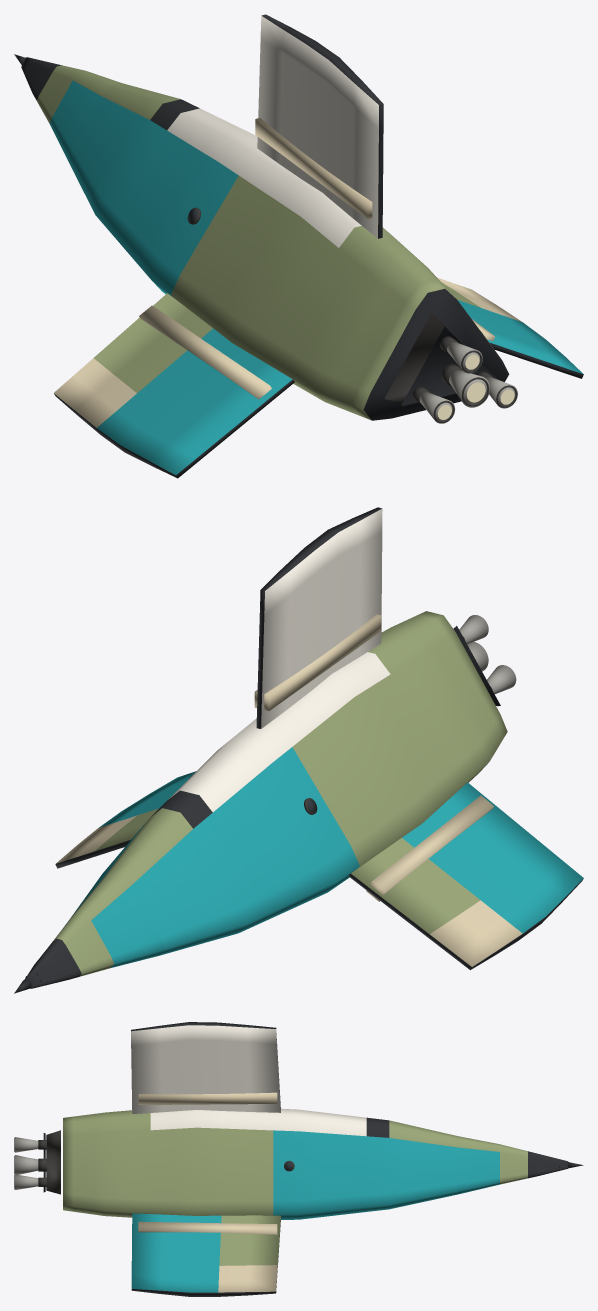
Rendered from Ship_Standard_8.glb.
3 renders of one model, top to bottom at view 1: azimuth 30°, elevation 25°; view 2: azimuth 150°, elevation 25°; view 3: azimuth 270°, elevation 25°, orthographic. The views are drawn at different scales.
Parts seen in each view (by area): view 1: Fuselage_RoundedTriangleTriFoldBody, Wing_LowerLeft_TriFoldCornerBladePaintedMesh, Wing_Dorsal_TriFoldCornerBladePaintedMesh, Nose_RoundedTriangleTaperedForwardSection, Wing_LowerRight_TriFoldCornerBladePaintedMesh, WingRootSocket_LowerLeft_IntegratedEmbeddedShoulder, WingRootSocket_Dorsal_IntegratedEmbeddedShoulder, EngineBlock_AftTriFoldTrimFrame, EngineBlock_AftTriangularIntegratedMountPlate, EngineEmitter, EngineBell_Center_BurnishedNozzle; view 2: Fuselage_RoundedTriangleTriFoldBody, Wing_LowerLeft_TriFoldCornerBladePaintedMesh, Wing_Dorsal_TriFoldCornerBladePaintedMesh, Nose_RoundedTriangleTaperedForwardSection, Wing_LowerRight_TriFoldCornerBladePaintedMesh, WingRootSocket_LowerLeft_IntegratedEmbeddedShoulder, WingRootSocket_Dorsal_IntegratedEmbeddedShoulder; view 3: Fuselage_RoundedTriangleTriFoldBody, Wing_Dorsal_TriFoldCornerBladePaintedMesh, Wing_LowerRight_TriFoldCornerBladePaintedMesh, Nose_RoundedTriangleTaperedForwardSection, WingRootSocket_Dorsal_IntegratedEmbeddedShoulder, WingRootSocket_LowerRight_IntegratedEmbeddedShoulder, EngineBlock_AftTriangularIntegratedMountPlate, EngineBell_Center_BurnishedNozzle.
Boxes of the visible parts, x1=… form: Fuselage_RoundedTriangleTriFoldBody: x1=67, y1=83, x2=509, y2=420; Wing_LowerLeft_TriFoldCornerBladePaintedMesh: x1=54, y1=293, x2=294, y2=478; Wing_Dorsal_TriFoldCornerBladePaintedMesh: x1=257, y1=14, x2=383, y2=238; Nose_RoundedTriangleTaperedForwardSection: x1=21, y1=57, x2=121, y2=158; Wing_LowerRight_TriFoldCornerBladePaintedMesh: x1=437, y1=277, x2=583, y2=378; WingRootSocket_LowerLeft_IntegratedEmbeddedShoulder: x1=139, y1=305, x2=271, y2=399; WingRootSocket_Dorsal_IntegratedEmbeddedShoulder: x1=255, y1=118, x2=372, y2=218; EngineBlock_AftTriFoldTrimFrame: x1=401, y1=326, x2=500, y2=406; EngineBlock_AftTriangularIntegratedMountPlate: x1=384, y1=313, x2=444, y2=402; EngineEmitter: x1=437, y1=354, x2=514, y2=419; EngineBell_Center_BurnishedNozzle: x1=449, y1=370, x2=490, y2=407; Fuselage_RoundedTriangleTriFoldBody: x1=72, y1=611, x2=507, y2=955; Wing_LowerLeft_TriFoldCornerBladePaintedMesh: x1=348, y1=782, x2=583, y2=970; Wing_Dorsal_TriFoldCornerBladePaintedMesh: x1=256, y1=507, x2=382, y2=728; Nose_RoundedTriangleTaperedForwardSection: x1=25, y1=873, x2=164, y2=988; Wing_LowerRight_TriFoldCornerBladePaintedMesh: x1=55, y1=771, x2=196, y2=868; WingRootSocket_LowerLeft_IntegratedEmbeddedShoulder: x1=366, y1=795, x2=493, y2=901; WingRootSocket_Dorsal_IntegratedEmbeddedShoulder: x1=254, y1=614, x2=381, y2=710; Fuselage_RoundedTriangleTriFoldBody: x1=63, y1=1108, x2=457, y2=1219; Wing_Dorsal_TriFoldCornerBladePaintedMesh: x1=131, y1=1022, x2=280, y2=1113; Wing_LowerRight_TriFoldCornerBladePaintedMesh: x1=131, y1=1213, x2=280, y2=1296; Nose_RoundedTriangleTaperedForwardSection: x1=457, y1=1136, x2=568, y2=1194; WingRootSocket_Dorsal_IntegratedEmbeddedShoulder: x1=138, y1=1092, x2=277, y2=1104; WingRootSocket_LowerRight_IntegratedEmbeddedShoulder: x1=138, y1=1221, x2=277, y2=1234; EngineBlock_AftTriangularIntegratedMountPlate: x1=46, y1=1130, x2=60, y2=1194; EngineBell_Center_BurnishedNozzle: x1=15, y1=1155, x2=38, y2=1174.
Bounding box in the file's own units: 4.53 × 3.48 × 8.51.
